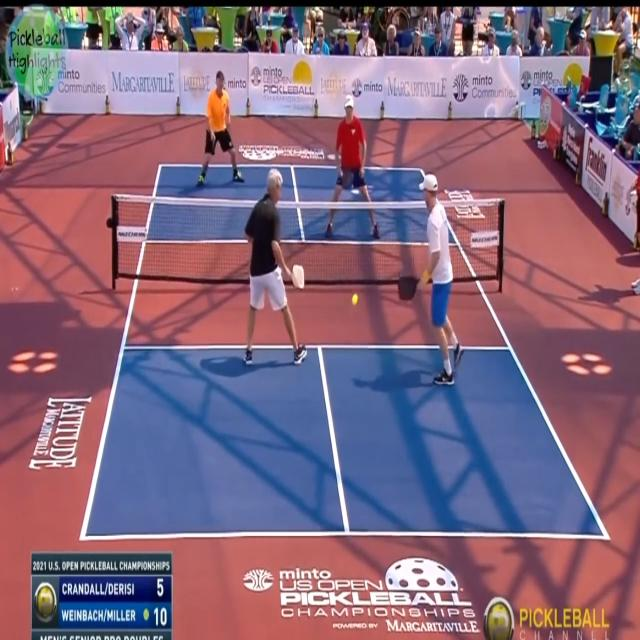Court: (83, 164, 608, 540)
ball: (347, 284, 364, 313)
